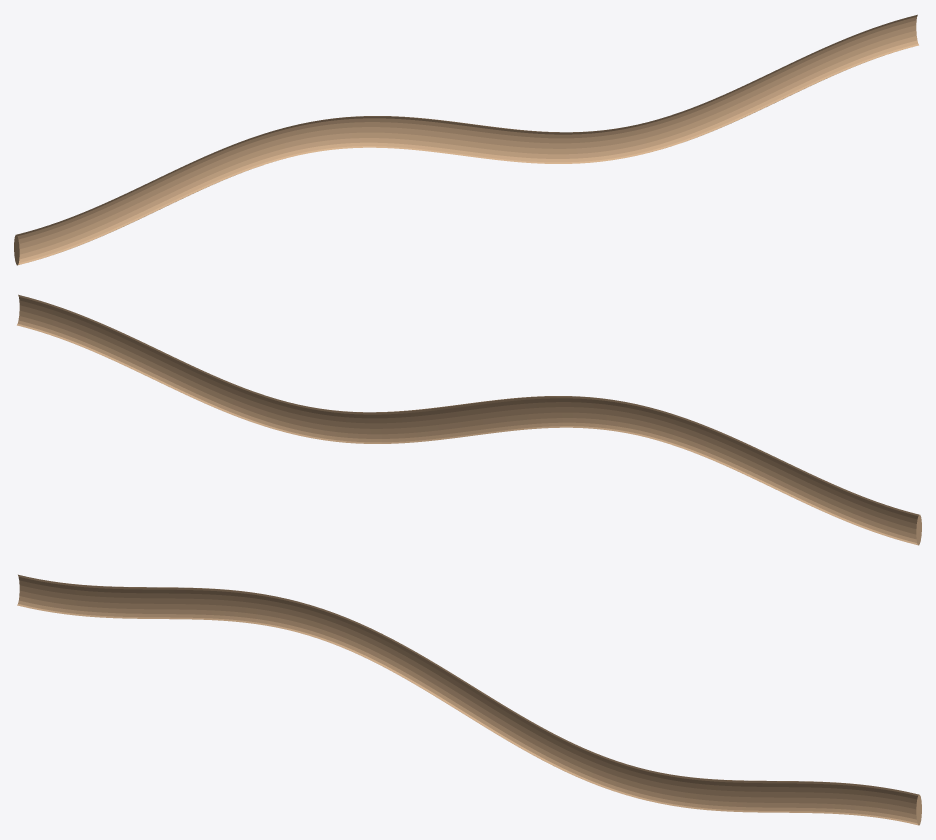
Rendered from dranmar_skin_adhesive_bead_cured.glb.
3 renders of one model, top to bottom at view 1: azimuth 30°, elevation 25°; view 2: azimuth 150°, elevation 25°; view 3: azimuth 330°, elevation 25°, orthographic.
Visible parts, largest first — view 1: AdhesiveBead_cured; view 2: AdhesiveBead_cured; view 3: AdhesiveBead_cured.
Boxes of the visible parts, <box> form: AdhesiveBead_cured: <box>14,14,918,265</box>; AdhesiveBead_cured: <box>17,294,921,545</box>; AdhesiveBead_cured: <box>17,574,921,825</box>.
Size of the model in its own units: 0.07 by 0.00846 by 0.000748.
